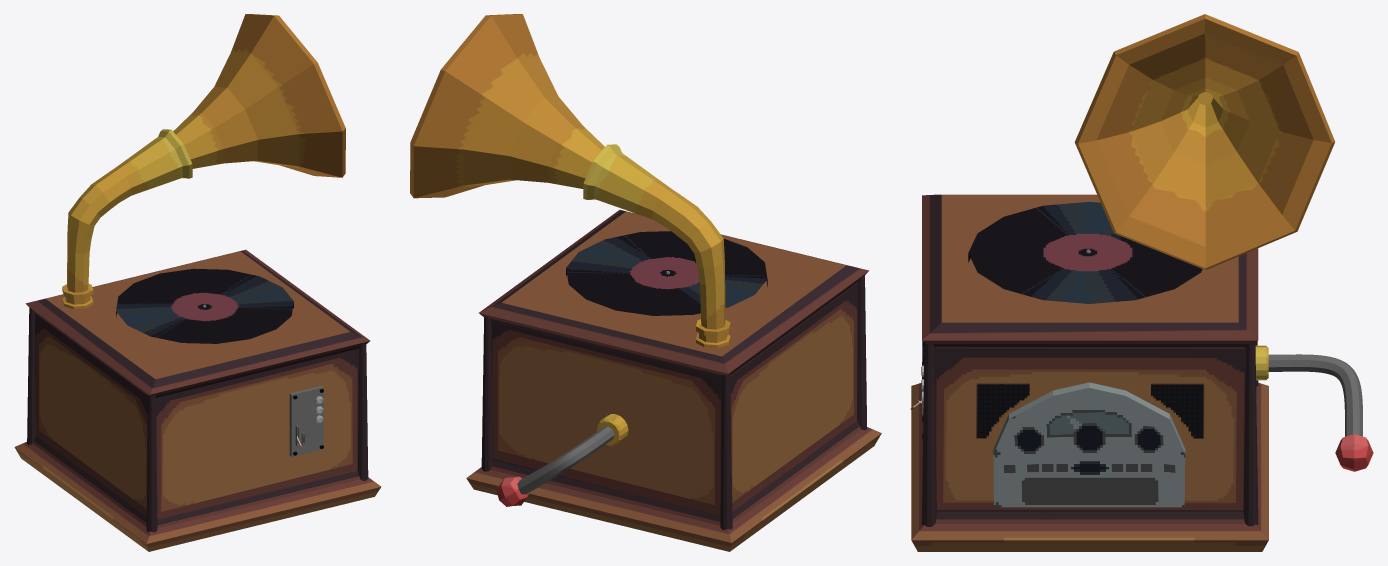
Rendered from vynil fodacomtexturasmalco.fbx.
The picture shows the model from 3 angles, left to right: view 1: azimuth 30°, elevation 25°; view 2: azimuth 150°, elevation 25°; view 3: azimuth 270°, elevation 25°; orthographic projection. The views are drawn at different scales.
Parts seen in each view (by area): view 1: lados do gramofone, Cubo, Gramofone.001, Cylinder.001, Gramofone, pilastras de madeira, Painel; view 2: lados do gramofone, Cubo, Gramofone.001, Cylinder.001, Gramofone, pilastras de madeira, MAnivela, Boladamanivela, Suporte da manivela; view 3: Gramofone.001, Cubo, Cubo.001, Cylinder, Cylinder.001, pilastras de madeira, MAnivela, Boladamanivela.
Boxes of the visible parts, x1,y1,x2,y2 form: lados do gramofone: (35,313,359,519); Cubo: (14,249,381,551); Gramofone.001: (173,14,345,177); Cylinder.001: (116,268,293,343); Gramofone: (62,129,192,309); pilastras de madeira: (27,307,368,532); Painel: (289,386,323,456); lados do gramofone: (491,282,858,515); Cubo: (466,210,881,551); Gramofone.001: (410,14,604,198); Cylinder.001: (566,231,767,315); Gramofone: (583,144,730,348); pilastras de madeira: (481,275,866,529); MAnivela: (517,426,614,494); Boladamanivela: (496,476,529,506); Suporte da manivela: (596,414,628,445); Gramofone.001: (1074,14,1334,269); Cubo: (911,194,1268,551); Cubo.001: (934,347,1246,511); Cylinder: (993,382,1185,507); Cylinder.001: (968,201,1202,303); pilastras de madeira: (921,341,1258,526); MAnivela: (1268,354,1362,436); Boladamanivela: (1335,434,1373,471).
Bounding box in the file's own units: 133 × 182 × 141.
15 materials, 10 textured.
